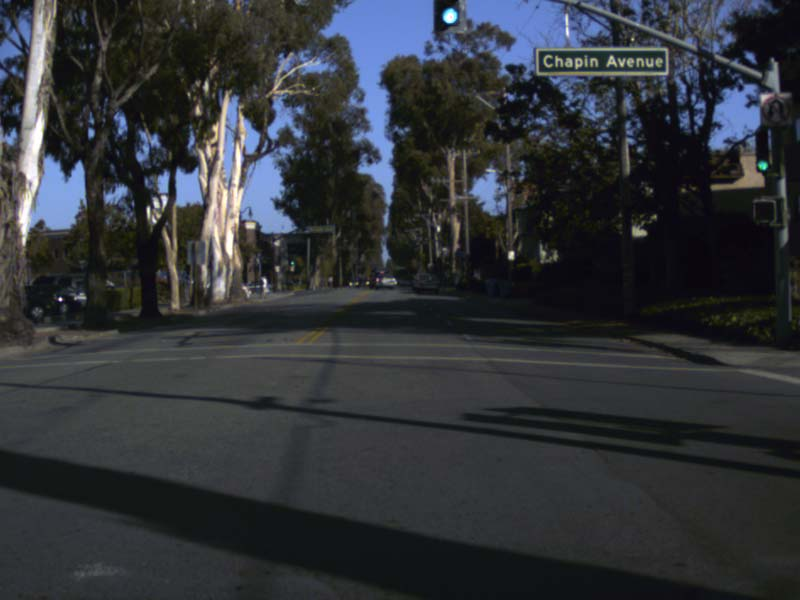Green: (755, 130, 773, 171)
